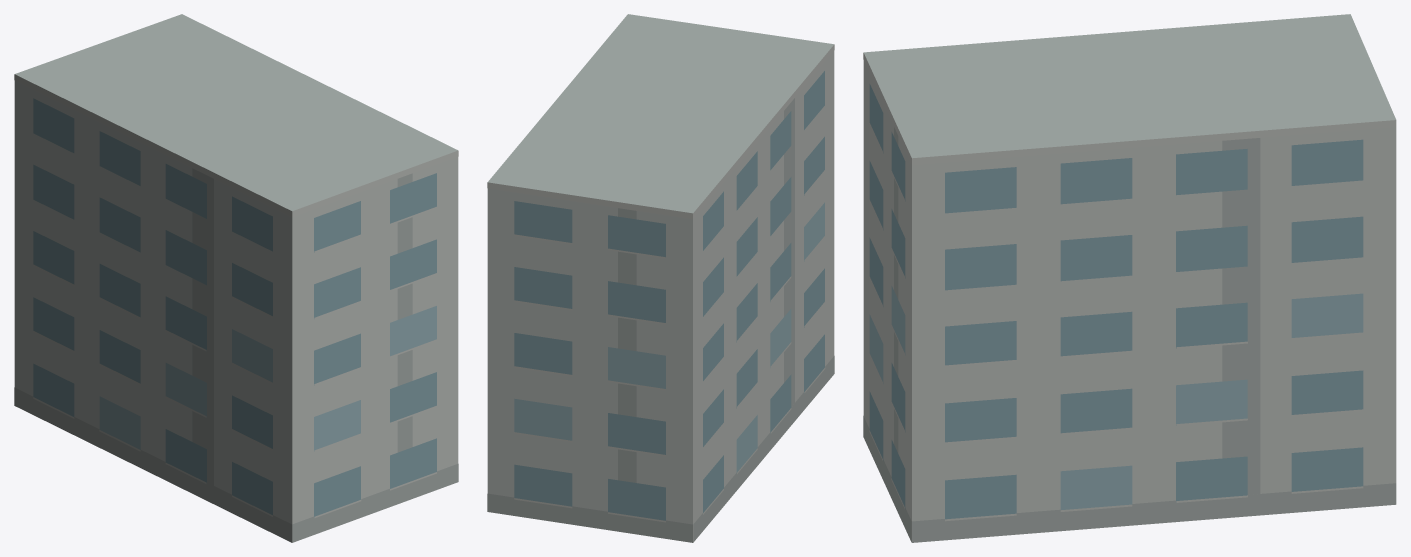
The model's file is survey-upis-32843789.glb.
3 views of the same model, side by side, from view 1: azimuth 30°, elevation 25°; view 2: azimuth 150°, elevation 25°; view 3: azimuth 270°, elevation 25° (orthographic). The views are drawn at different scales.
Visible parts, largest first — view 1: survey-upis-32843789.tmp; view 2: survey-upis-32843789.tmp; view 3: survey-upis-32843789.tmp.
Boxes of the visible parts, x1=… form: survey-upis-32843789.tmp: x1=14, y1=14, x2=458, y2=542; survey-upis-32843789.tmp: x1=487, y1=14, x2=834, y2=542; survey-upis-32843789.tmp: x1=863, y1=14, x2=1396, y2=542.
Bounding box in the file's own units: 10.62 × 13.2 × 16.58.
